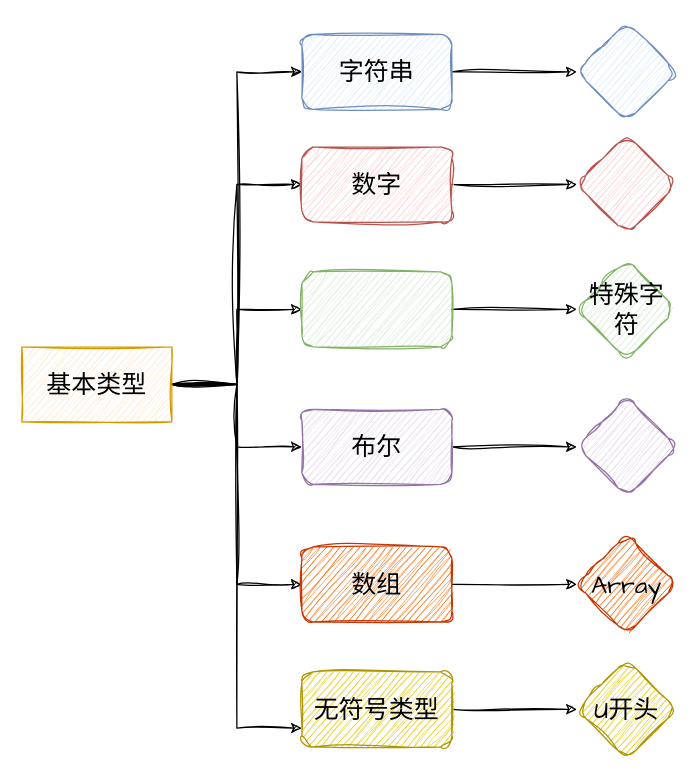
The diagram is 700 pixels wide and 781 high, and some of its shapes have lost their labels. Each missing label, with the box of its shape:
Boolearn: (576, 396, 677, 497)
Int: (576, 133, 677, 234)
String: (576, 21, 677, 122)
字串: (301, 271, 452, 347)
